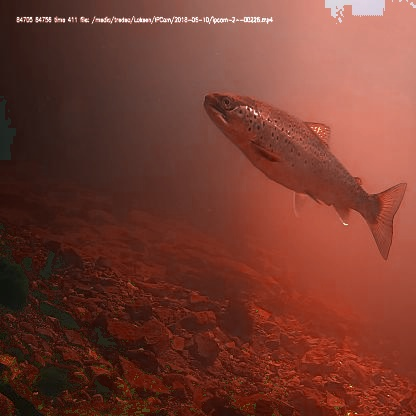salmon: (201, 86, 409, 262)
